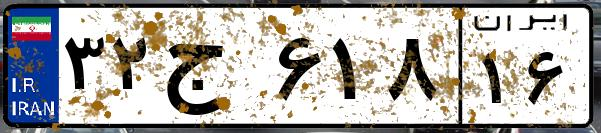1: (330, 28, 385, 110), (475, 38, 525, 113)
2: (110, 28, 158, 98)
3: (57, 26, 110, 100)
6: (270, 28, 330, 110), (525, 38, 570, 115)
8: (385, 28, 445, 110)
ج: (158, 20, 270, 120)
